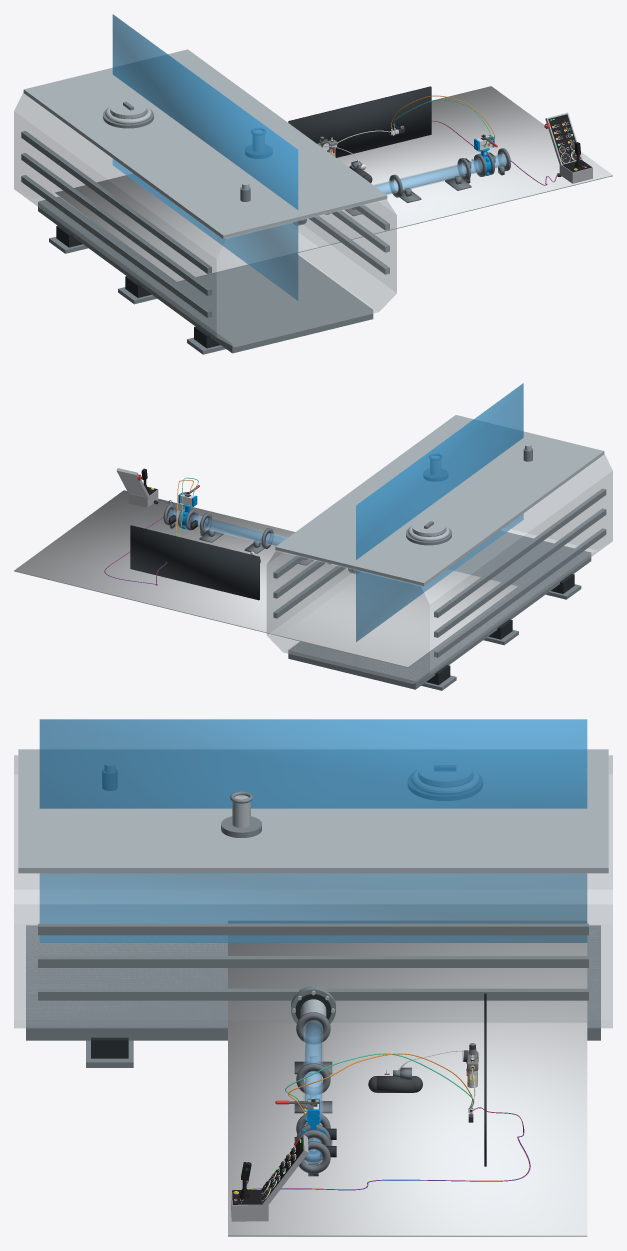
The model's file is painelreposicionado_fios_caidos.glb.
3 renders of one model, top to bottom at view 1: azimuth 30°, elevation 25°; view 2: azimuth 150°, elevation 25°; view 3: azimuth 270°, elevation 25°, orthographic. The views are drawn at different scales.
Parts seen in each view (by area): view 1: Tanque_Tanque de agua - corpo principal, Tanque_Chapa superior, Base_principal_bancada, Nivel_agua_tanque_superficie, Tanque_Fundo / berco inferior, Placa_traseira_painel_lubrifil, Tanque_Friso lateral -1 1, Tanque_Friso lateral -1 2, Tanque_Friso lateral -1 3, Tubulacao_tanque_ate_valvula_parede_transparente, Tubulacao_tanque_ate_valvula_agua_interna, Tanque_Friso lateral 1 1 (+3 smaller); view 2: Tanque_Tanque de agua - corpo principal, Base_principal_bancada, Tanque_Chapa superior, Nivel_agua_tanque_superficie, Tanque_Fundo / berco inferior, Placa_traseira_painel_lubrifil, Tanque_Friso lateral -1 1, Tanque_Friso lateral -1 2, Tanque_Friso lateral -1 3, Tubulacao_tanque_ate_valvula_parede_transparente, Tubulacao_tanque_ate_valvula_agua_interna, Tanque_Friso lateral 1 1 (+3 smaller); view 3: Base_principal_bancada, Nivel_agua_tanque_superficie, Tanque_Tanque de agua - corpo principal, Tanque_Chapa superior, Tanque_Fundo / berco inferior, Tanque_Friso lateral 1 3, Tanque_Friso lateral 1 1, Tanque_Friso lateral 1 2, Tubulacao_tanque_ate_valvula_parede_transparente, Tanque_Tampa circular de inspecao, Tubulacao_tanque_ate_valvula_agua_interna, Tanque_Coxim de apoio.002 (+1 smaller).
Part boxes in pixels (box(x1,y1,x2,y2)): Tanque_Tanque de agua - corpo principal: box(14, 92, 396, 347); Tanque_Chapa superior: box(23, 49, 387, 238); Base_principal_bancada: box(55, 86, 612, 282); Nivel_agua_tanque_superficie: box(112, 14, 298, 300); Tanque_Fundo / berco inferior: box(38, 196, 373, 353); Placa_traseira_painel_lubrifil: box(288, 86, 431, 157); Tanque_Friso lateral -1 1: box(21, 175, 211, 317); Tanque_Friso lateral -1 2: box(21, 153, 211, 295); Tanque_Friso lateral -1 3: box(21, 131, 211, 273); Tubulacao_tanque_ate_valvula_parede_transparente: box(374, 163, 466, 194); Tubulacao_tanque_ate_valvula_agua_interna: box(375, 164, 466, 193); Tanque_Friso lateral 1 1: box(308, 216, 389, 274); Tanque_Tanque de agua - corpo principal: box(266, 454, 612, 683); Base_principal_bancada: box(14, 490, 517, 667); Tanque_Chapa superior: box(275, 415, 604, 586); Nivel_agua_tanque_superficie: box(356, 383, 523, 641); Tanque_Fundo / berco inferior: box(288, 531, 591, 689); Placa_traseira_painel_lubrifil: box(130, 525, 259, 600); Tanque_Friso lateral -1 1: box(434, 528, 606, 657); Tanque_Friso lateral -1 2: box(434, 508, 606, 637); Tanque_Friso lateral -1 3: box(434, 488, 606, 617); Tubulacao_tanque_ate_valvula_parede_transparente: box(204, 518, 287, 546); Tubulacao_tanque_ate_valvula_agua_interna: box(204, 518, 286, 545); Tanque_Friso lateral 1 1: box(273, 565, 346, 618); Base_principal_bancada: box(228, 921, 587, 1236); Nivel_agua_tanque_superficie: box(39, 719, 587, 942); Tanque_Tanque de agua - corpo principal: box(14, 755, 612, 1028); Tanque_Chapa superior: box(18, 749, 608, 873); Tanque_Fundo / berco inferior: box(26, 925, 600, 1040); Tanque_Friso lateral 1 3: box(38, 923, 588, 935); Tanque_Friso lateral 1 1: box(38, 988, 588, 1000); Tanque_Friso lateral 1 2: box(38, 956, 588, 967); Tubulacao_tanque_ate_valvula_parede_transparente: box(304, 1020, 322, 1114); Tanque_Tampa circular de inspecao: box(418, 758, 472, 786); Tubulacao_tanque_ate_valvula_agua_interna: box(305, 1021, 321, 1124); Tanque_Coxim de apoio.002: box(91, 1037, 128, 1058).
Size of the model in its own units: 4.68 by 1.88 by 3.5.
